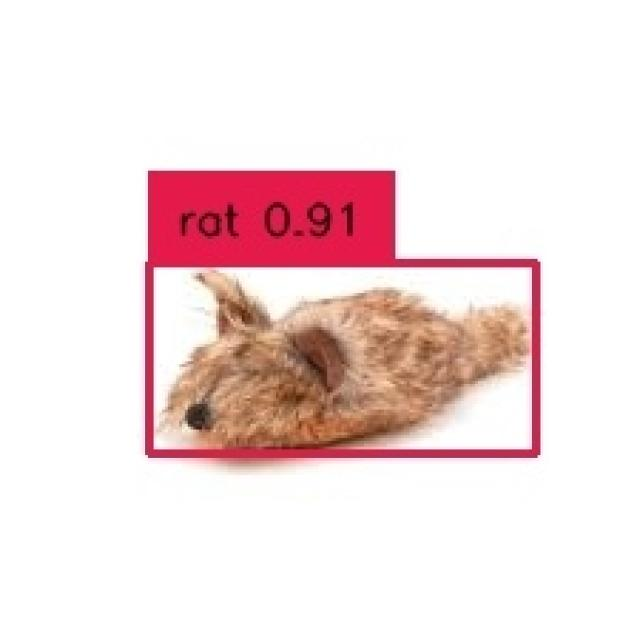rat: (145, 259, 532, 449)
